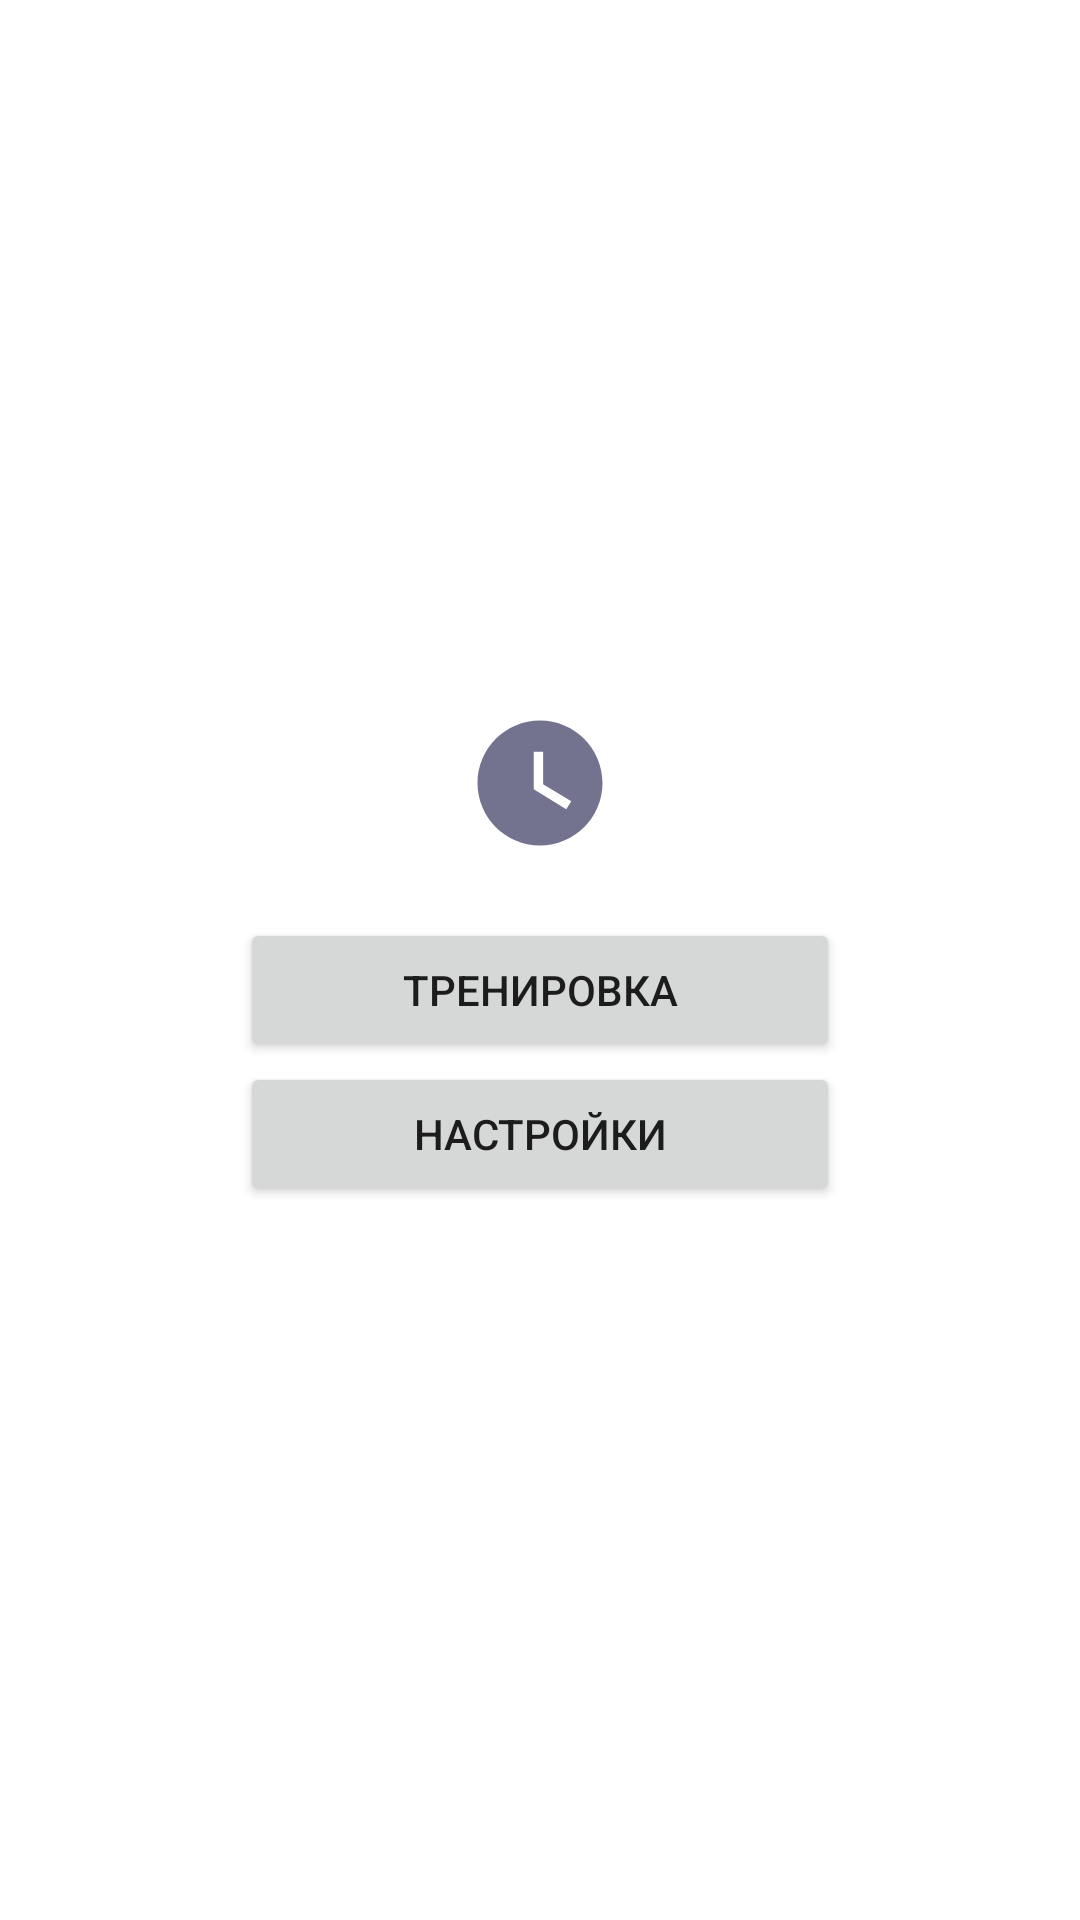

Named icons in this screenshot (1080*1920) and their centers, (x=x, y=y):
watch later: (x=540, y=783)
